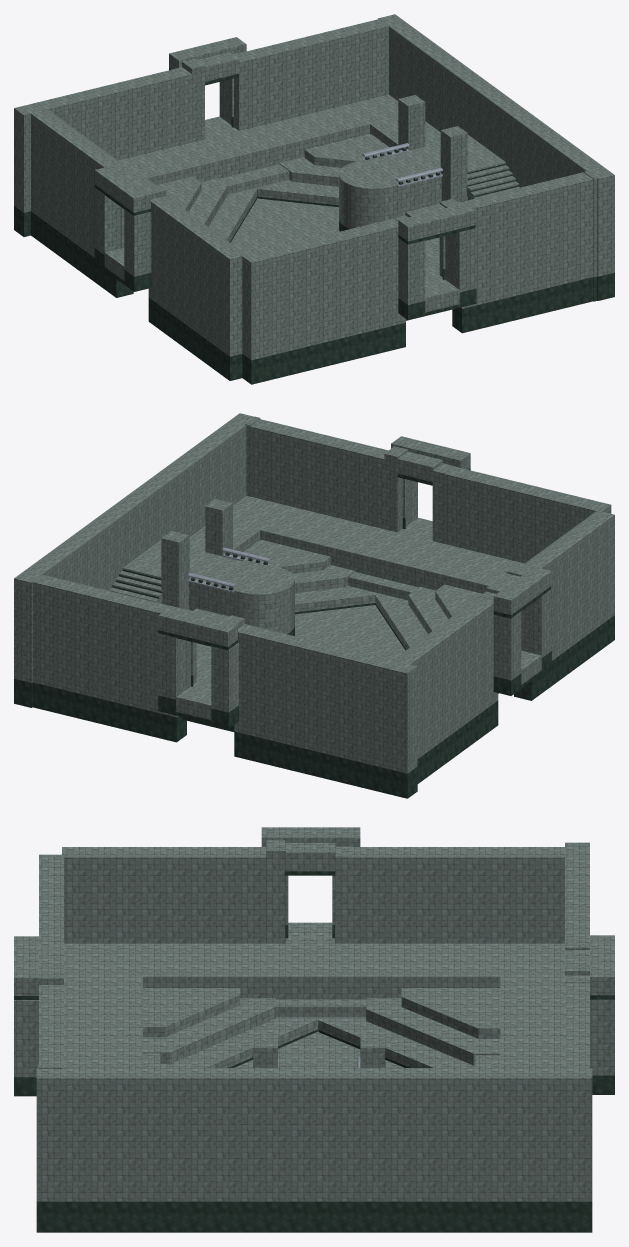
File: threeway.glb
3 renders of one model, top to bottom at view 1: azimuth 30°, elevation 25°; view 2: azimuth 150°, elevation 25°; view 3: azimuth 270°, elevation 25°, orthographic. The views are drawn at different scales.
Parts seen in each view (by area): view 1: block (×28), block_corner_large (×6), block_round, stairs; view 2: block (×27), block_corner_large (×6), block_round, stairs; view 3: block (×24), block_corner_large (×6), block_round.
Part boxes in pixels (x1=…): block (×28): x1=14, y1=14, x2=614, y2=384; block_corner_large (×6): x1=156, y1=133, x2=394, y2=242; block_round: x1=339, y1=154, x2=420, y2=231; stairs: x1=467, y1=159, x2=519, y2=199; block (×27): x1=14, y1=413, x2=614, y2=798; block_corner_large (×6): x1=238, y1=539, x2=482, y2=650; block_round: x1=210, y1=559, x2=294, y2=635; stairs: x1=108, y1=565, x2=162, y2=603; block (×24): x1=14, y1=827, x2=614, y2=1232; block_corner_large (×6): x1=143, y1=988, x2=500, y2=1067; block_round: x1=278, y1=1041, x2=360, y2=1067.
Bounding box in the file's own units: 22.9 × 7.2 × 24.04.
Materials: 128 (128 with a texture image).
